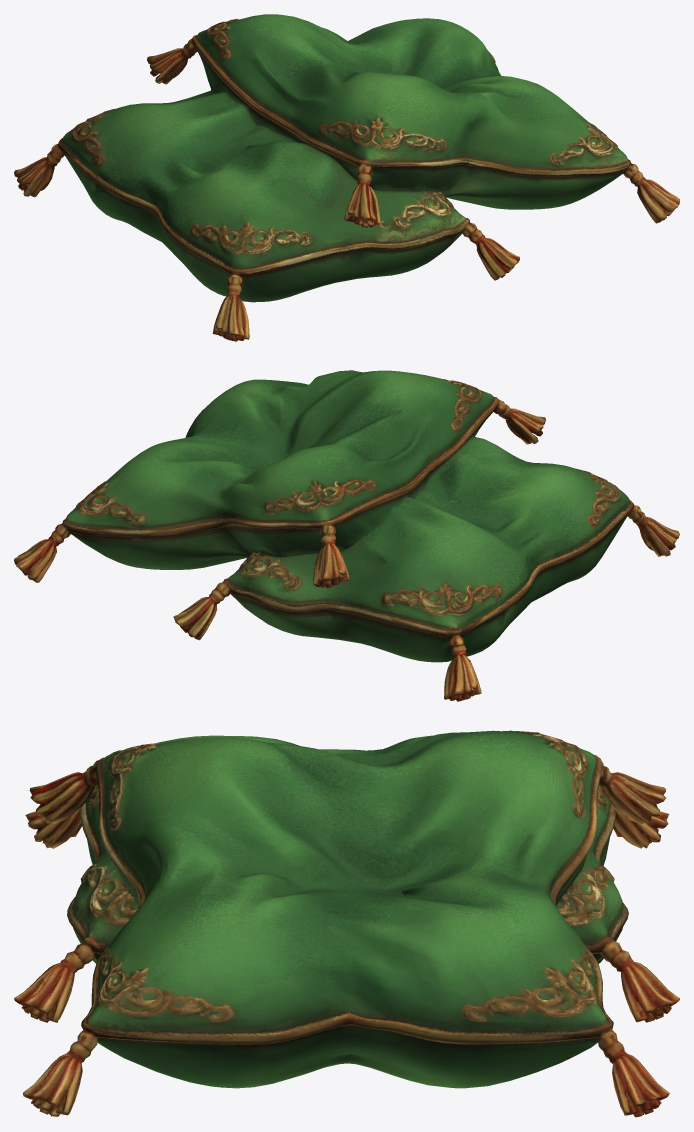
File: Emerald_Velvet_Cushio.fbx
3 views of the same model, one above another, from view 1: azimuth 30°, elevation 25°; view 2: azimuth 150°, elevation 25°; view 3: azimuth 270°, elevation 25° (orthographic). The views are drawn at different scales.
Visible parts, largest first — view 1: Emerald_Velvet_Cushio_LOD0; view 2: Emerald_Velvet_Cushio_LOD0; view 3: Emerald_Velvet_Cushio_LOD0.
Boxes of the visible parts, x1,y1,x2,y2 form: Emerald_Velvet_Cushio_LOD0: [14, 14, 679, 341]; Emerald_Velvet_Cushio_LOD0: [14, 370, 679, 701]; Emerald_Velvet_Cushio_LOD0: [14, 730, 679, 1117].
Size of what is drawn, in the model's own units: 1.9 by 0.6879 by 1.65.
1 material, 1 textured.
